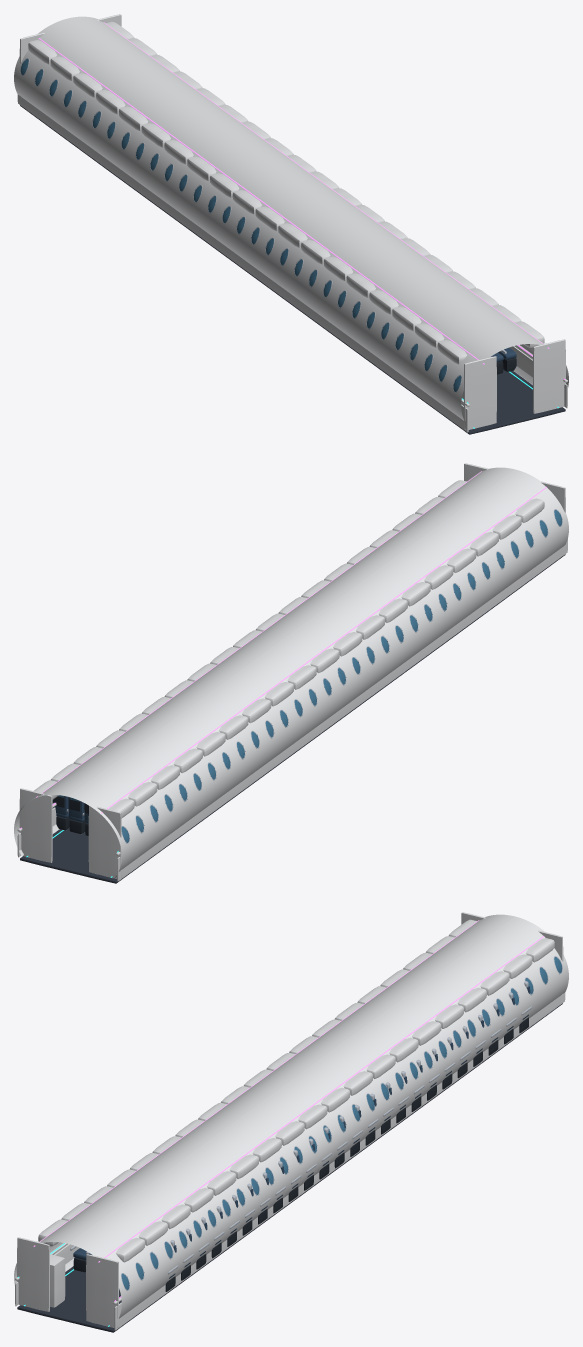
Rendered from airbus-a220-100.glb.
3 renders of one model, top to bottom at view 1: azimuth 30°, elevation 25°; view 2: azimuth 150°, elevation 25°; view 3: azimuth 330°, elevation 25°, orthographic.
Visible parts, largest first — view 1: Lower sidewall -1, Carpet floor, Bulkhead right, Bulkhead left, Cabin wall bay -1 1, Cabin wall bay -1 3, Cabin wall bay -1 22, Cabin wall bay -1 28, Cabin wall bay -1 11, Cabin wall bay -1 17, Cabin wall bay -1 25, Cabin wall bay -1 23 (+25 smaller); view 2: Lower sidewall -1, Carpet floor, Bulkhead right, Bulkhead left, Cabin wall bay -1 30, Cabin wall bay -1 1, Cabin wall bay -1 25, Cabin wall bay -1 23, Cabin wall bay -1 9, Cabin wall bay -1 22, Cabin wall bay -1 28, Cabin wall bay -1 3 (+26 smaller); view 3: Lower sidewall 1, Carpet floor, Bulkhead left, Bulkhead right, Cabin wall bay 1 1, Cabin wall bay 1 28, Cabin wall bay 1 29, Cabin wall bay 1 30, Cabin wall bay 1 17, Cabin wall bay 1 15, Cabin wall bay 1 3, Cabin wall bay 1 14 (+26 smaller).
Part boxes in pixels (box(x1,y1,x2,y2)): Lower sidewall -1: box(17, 94, 468, 432); Carpet floor: box(20, 105, 565, 434); Bulkhead right: box(533, 339, 565, 413); Bulkhead left: box(464, 356, 496, 430); Cabin wall bay -1 1: box(28, 29, 96, 114); Cabin wall bay -1 3: box(57, 50, 124, 135); Cabin wall bay -1 22: box(331, 251, 398, 336); Cabin wall bay -1 28: box(418, 314, 485, 399); Cabin wall bay -1 11: box(172, 134, 240, 219); Cabin wall bay -1 17: box(259, 198, 327, 283); Cabin wall bay -1 25: box(374, 282, 442, 367); Cabin wall bay -1 23: box(345, 261, 413, 346); Lower sidewall -1: box(117, 539, 567, 881); Carpet floor: box(20, 554, 565, 883); Bulkhead right: box(19, 788, 52, 862); Bulkhead left: box(88, 806, 121, 879); Cabin wall bay -1 30: box(501, 469, 568, 555); Cabin wall bay -1 1: box(82, 775, 150, 861); Cabin wall bay -1 25: box(429, 522, 496, 607); Cabin wall bay -1 23: box(400, 543, 467, 628); Cabin wall bay -1 9: box(198, 691, 265, 776); Cabin wall bay -1 22: box(385, 554, 453, 639); Cabin wall bay -1 28: box(472, 490, 539, 576); Cabin wall bay -1 3: box(112, 754, 179, 839); Lower sidewall 1: box(114, 992, 565, 1330); Carpet floor: box(17, 1003, 562, 1332); Bulkhead left: box(17, 1237, 49, 1311); Bulkhead right: box(86, 1254, 118, 1328); Cabin wall bay 1 1: box(486, 927, 554, 1012); Cabin wall bay 1 28: box(97, 1212, 164, 1297); Cabin wall bay 1 29: box(82, 1223, 150, 1308); Cabin wall bay 1 30: box(68, 1233, 136, 1318); Cabin wall bay 1 17: box(255, 1096, 323, 1178); Cabin wall bay 1 15: box(284, 1075, 352, 1157); Cabin wall bay 1 3: box(458, 948, 525, 1031); Cabin wall bay 1 14: box(299, 1064, 366, 1149).
Bounding box in the file's own units: 3.29 × 2.21 × 23.7.
